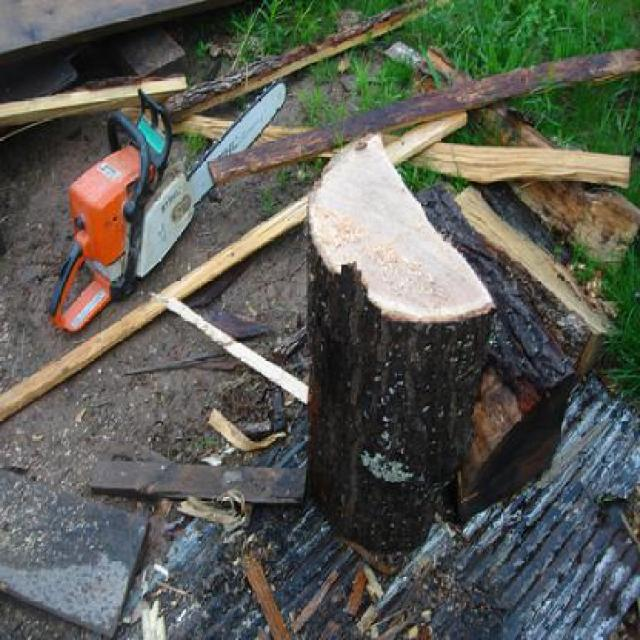Chainsaw: (47, 76, 288, 335)
